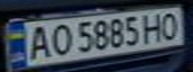5: (72, 19, 96, 53), (121, 14, 145, 47)
8: (90, 17, 112, 51), (106, 16, 127, 48)
A: (21, 22, 54, 61)
H: (139, 11, 166, 44)
O: (45, 21, 72, 57), (157, 10, 184, 40)
